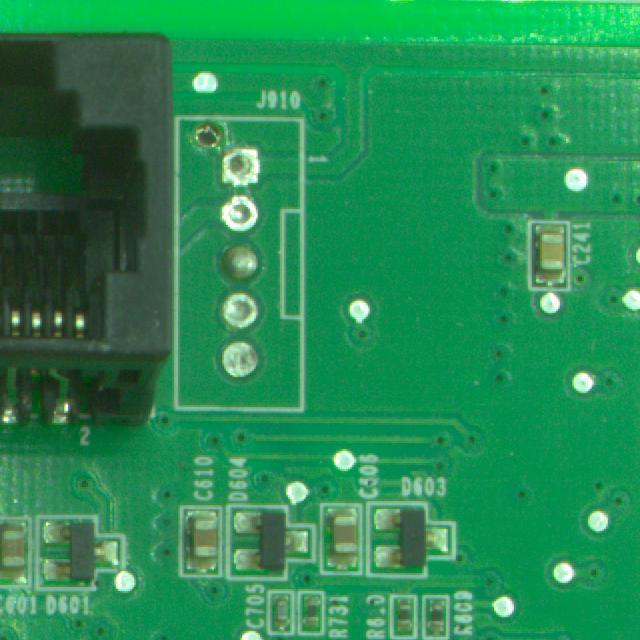Insufficient solder: (218, 143, 267, 192), (217, 195, 269, 236)
